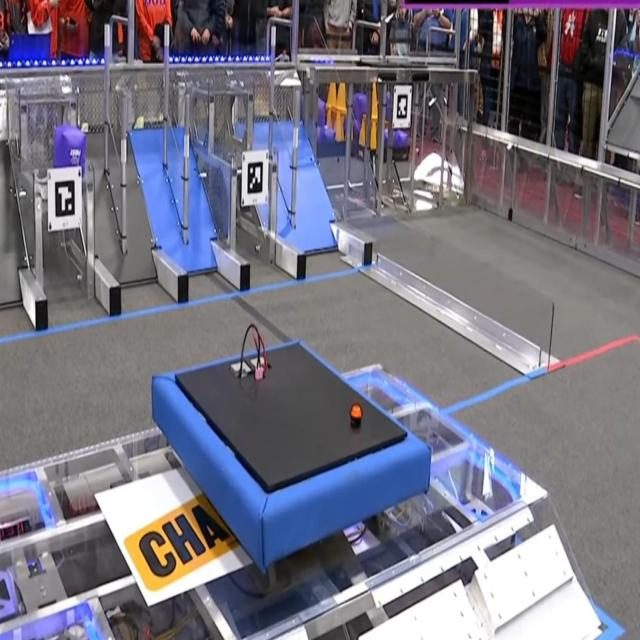frc_cone: (328, 77, 338, 111), (370, 86, 379, 123), (371, 121, 381, 153), (332, 110, 342, 140), (359, 123, 367, 159), (339, 84, 348, 112)
frc_cube: (54, 124, 85, 178), (353, 90, 370, 122), (316, 94, 326, 132), (395, 130, 410, 151), (386, 122, 394, 152), (388, 99, 396, 121)
